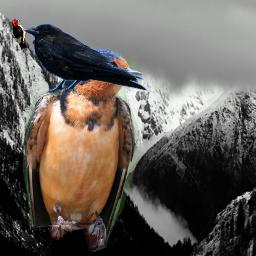Crow: (21, 23, 148, 94)
Swallow: (23, 47, 142, 252)
Woodpecker: (11, 19, 30, 50)
